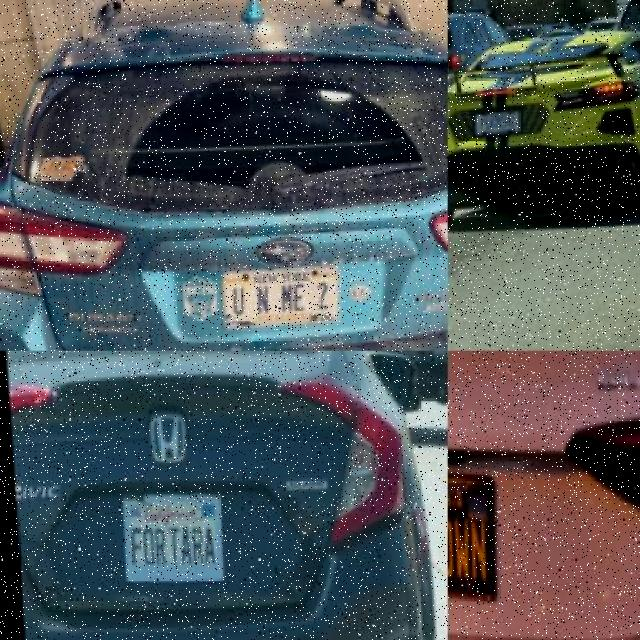licenseplate: (118, 488, 222, 592), (448, 466, 514, 608), (214, 272, 333, 336), (469, 115, 515, 143), (429, 351, 448, 366)
